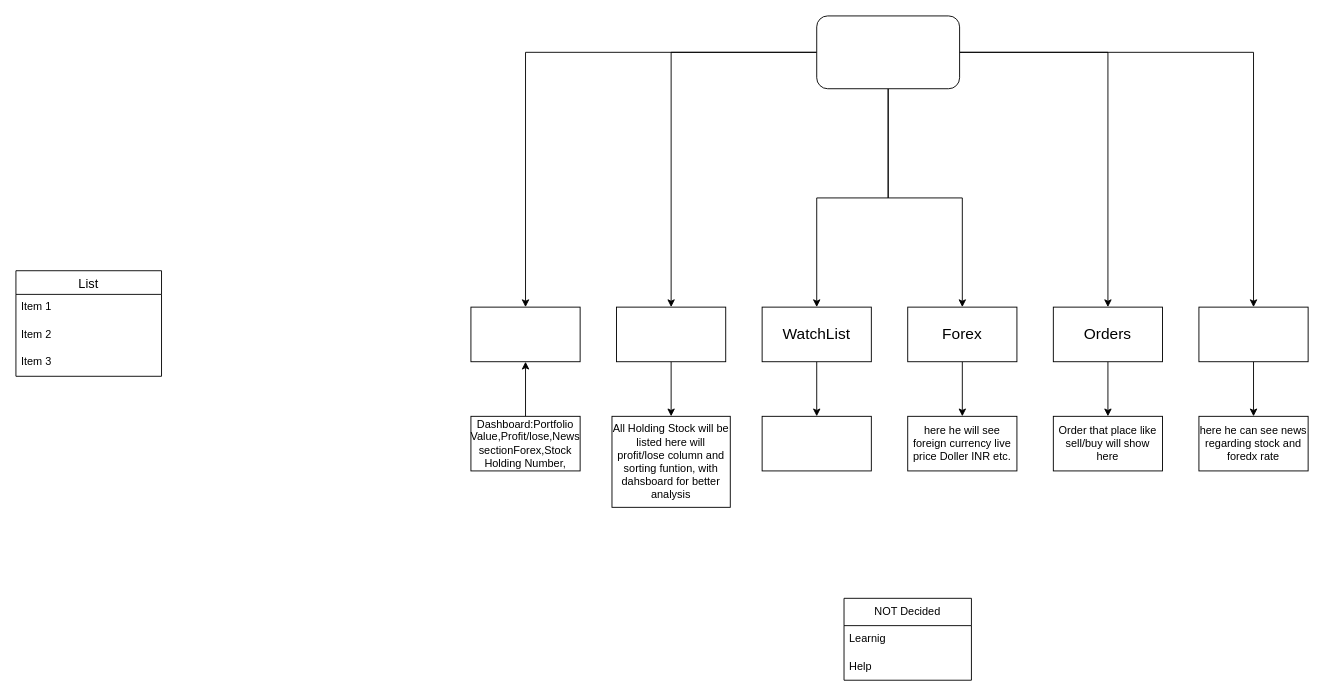
This 1324x696 diagram has some shape labels left out. Here are the shapes that lost their labels. From the top down, the box of each, then its label:
(816, 15, 960, 89): CApitalX
(470, 306, 580, 362): Home Page
(616, 306, 726, 362): Holding
(1198, 306, 1308, 362): News
(761, 415, 871, 471): Here all saved Stock will be listed
